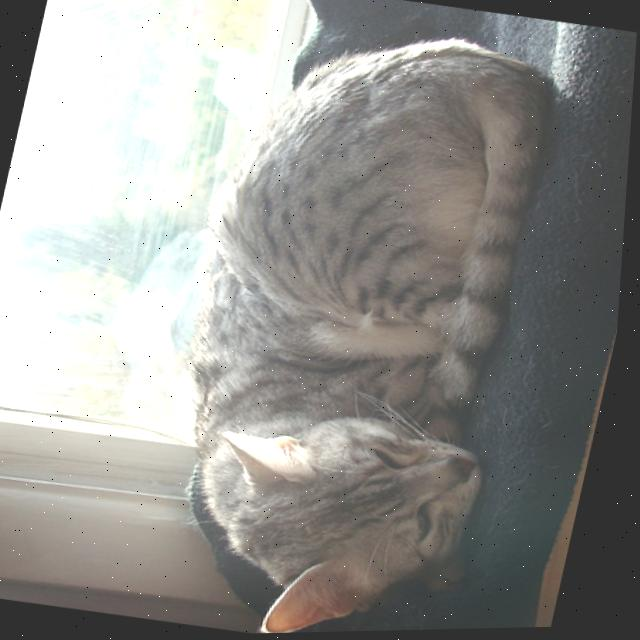Egyptian Mau: (122, 5, 588, 637)
